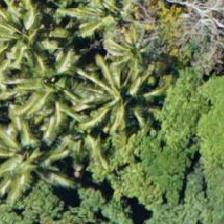coconut_tree: (38, 93, 128, 183), (76, 63, 166, 153), (0, 47, 84, 137), (0, 106, 67, 196), (0, 0, 77, 75), (61, 0, 151, 58)
